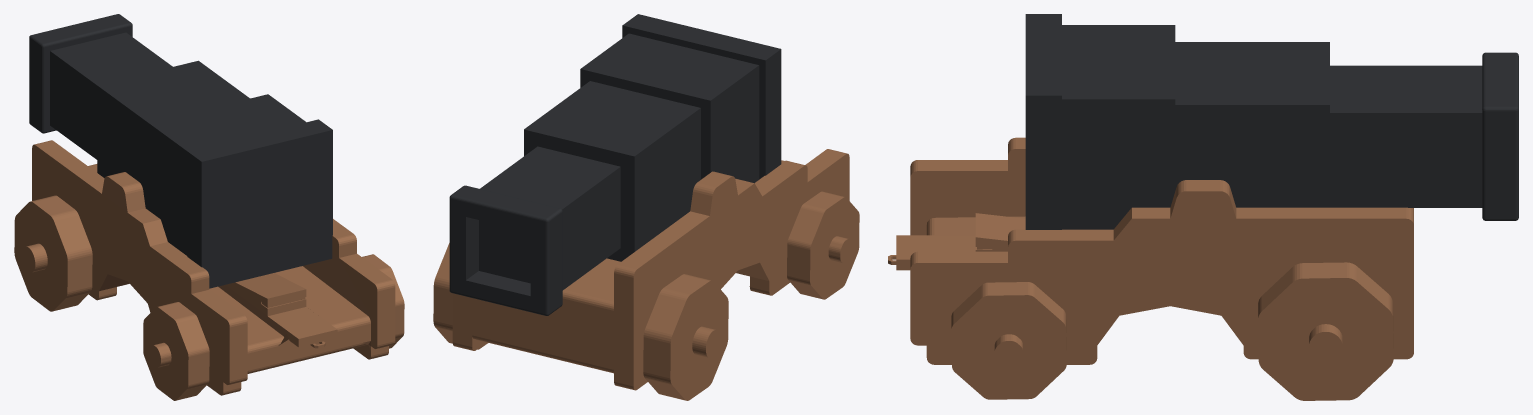
File: slimeobj_bazooka.fbx
3 views of the same model, side by side, from view 1: azimuth 30°, elevation 25°; view 2: azimuth 150°, elevation 25°; view 3: azimuth 270°, elevation 25° (orthographic). The views are drawn at different scales.
Visible parts, largest first — view 1: bazooka, dai; view 2: bazooka, dai; view 3: dai, bazooka.
Boxes of the visible parts, x1=… form: bazooka: x1=29, y1=14, x2=332, y2=288; dai: x1=14, y1=140, x2=404, y2=400; bazooka: x1=449, y1=14, x2=781, y2=315; dai: x1=433, y1=149, x2=859, y2=400; dai: x1=888, y1=137, x2=1413, y2=400; bazooka: x1=1025, y1=14, x2=1518, y2=229.
Bounding box in the file's own units: 292 × 252 × 518.
